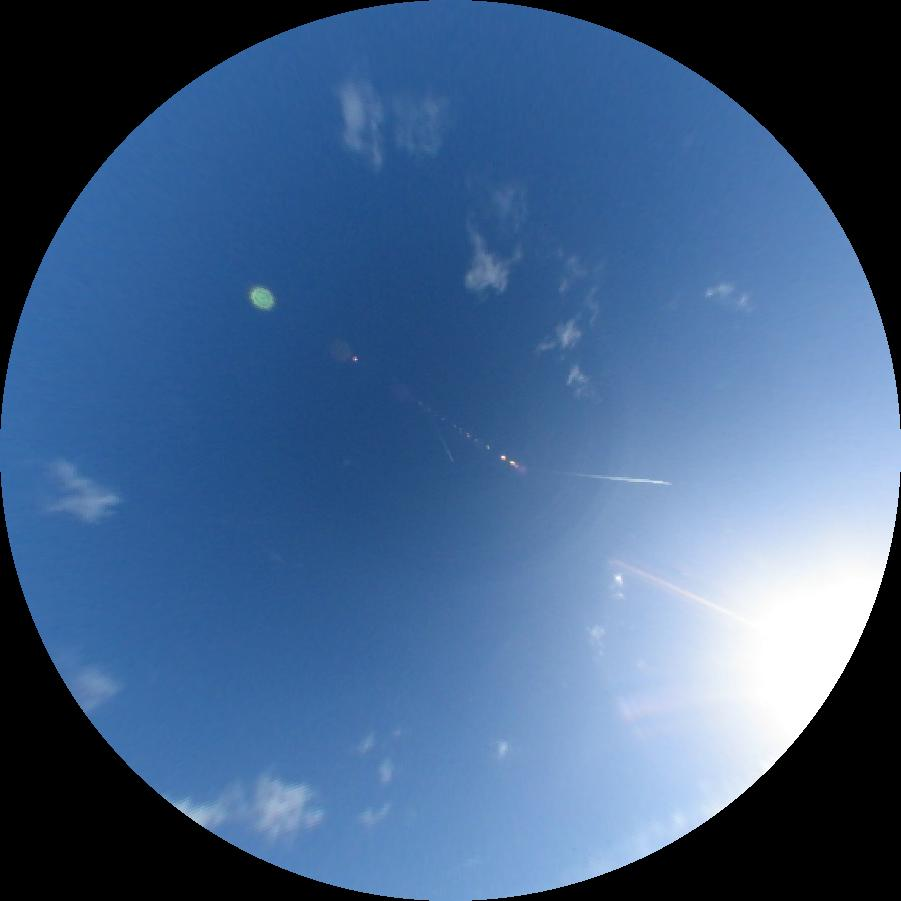contrail maybe: (445, 855, 488, 868)
contrail young: (549, 471, 674, 486), (430, 412, 455, 464)
parasite: (607, 559, 759, 630)
sun: (753, 574, 878, 740)
